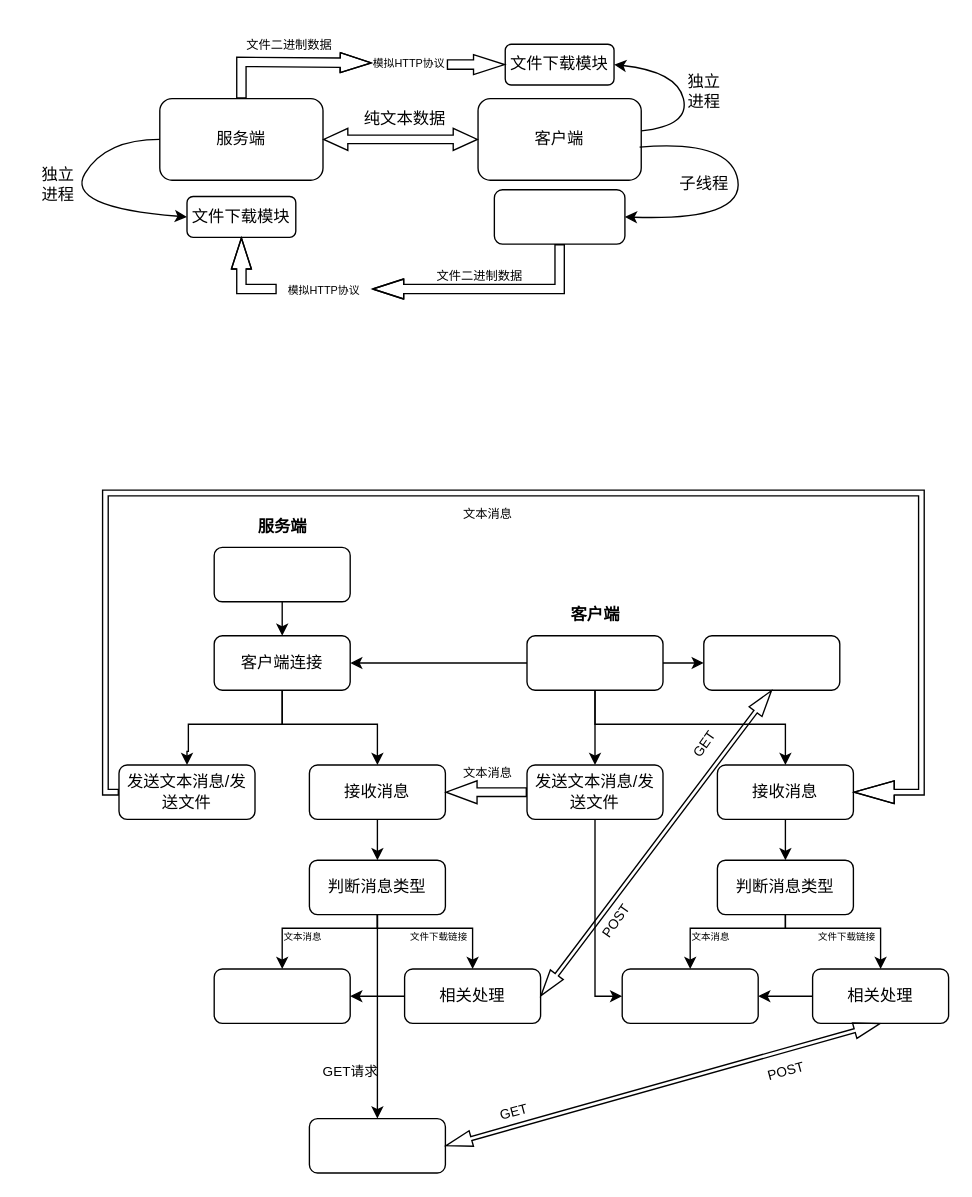
Image size: 972x1197. Some labels were removed from this diagram. Each missing label, with the centre of its shape:
"发送文件线程" goes at (x=376, y=1145).
"启动文件服务器线程" goes at (x=771, y=662).
"启动监听" goes at (x=281, y=574).
"打印日志消息" goes at (x=281, y=995).
"文件服务器" goes at (x=559, y=216).
"显示日志" goes at (x=689, y=995).
"连接服务端" goes at (x=594, y=662).
